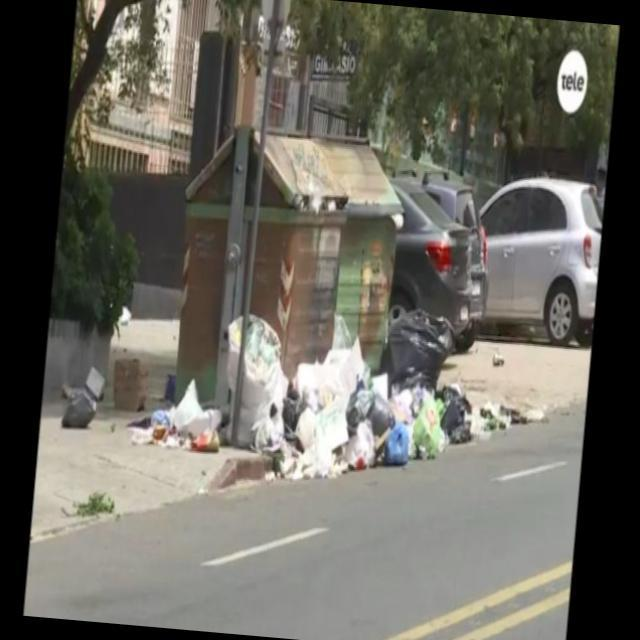garbage: (55, 274, 573, 500), (279, 178, 431, 248)
